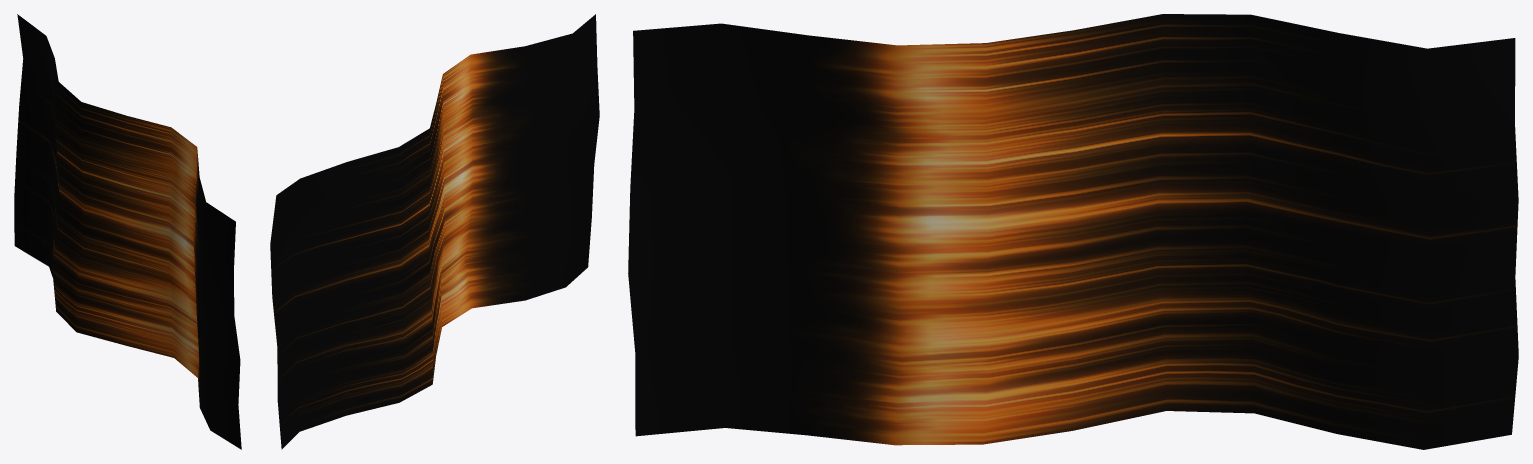
The model's file is liuguang2.FBX.
3 views of the same model, side by side, from view 1: azimuth 30°, elevation 25°; view 2: azimuth 150°, elevation 25°; view 3: azimuth 270°, elevation 25° (orthographic). The views are drawn at different scales.
Parts seen in each view (by area): view 1: Plane001; view 2: Plane001; view 3: Plane001.
Part boxes in pixels (x1=…): Plane001: x1=14, y1=14, x2=241, y2=449; Plane001: x1=270, y1=14, x2=599, y2=449; Plane001: x1=628, y1=14, x2=1518, y2=449.
Size of the model in its own units: 24.16 by 106 by 202.
